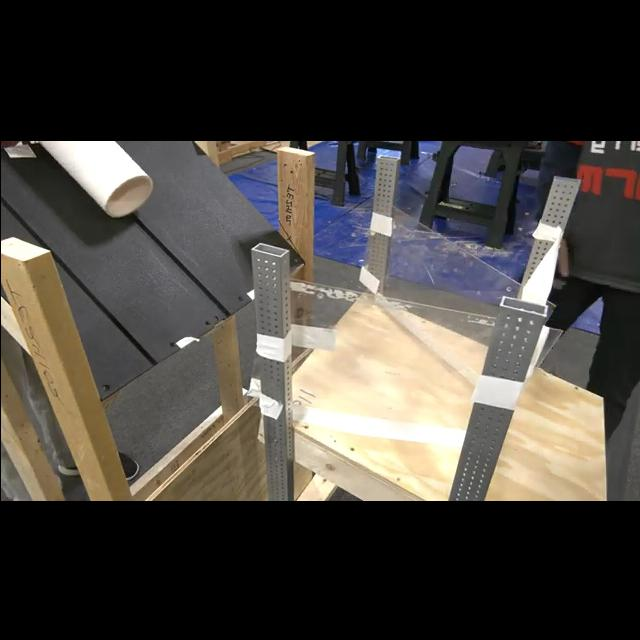CORAL: (38, 140, 154, 217)
